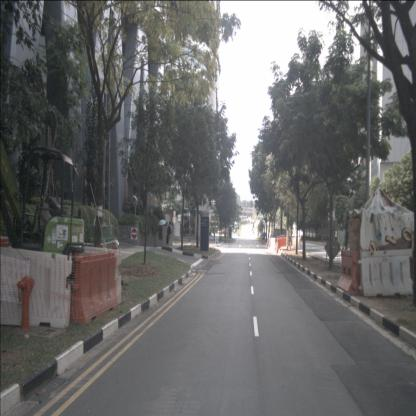human-pedestrian-adult: (158, 220, 166, 247), (166, 221, 172, 248), (334, 229, 338, 244)
movable_object-barrier: (0, 247, 72, 330), (70, 252, 119, 327), (358, 249, 414, 297), (337, 249, 360, 296), (276, 238, 288, 249), (268, 238, 279, 250), (292, 237, 301, 250)
movable_object-trafficcone: (276, 244, 280, 254), (289, 241, 292, 251), (275, 241, 278, 250)
